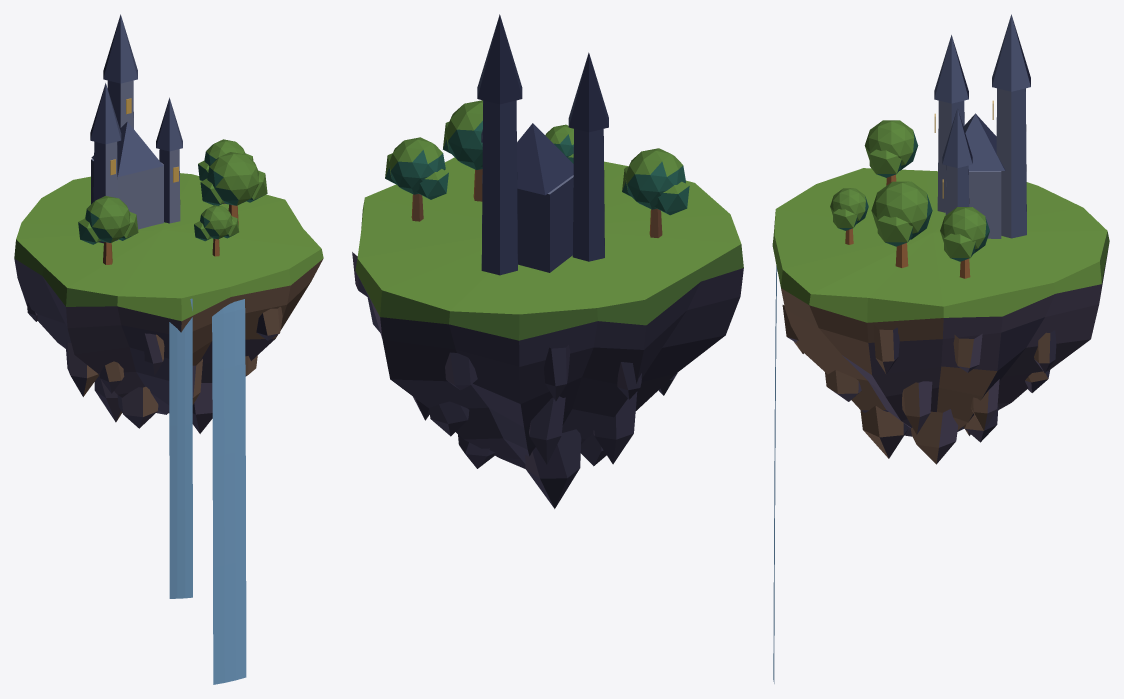
File: far_island_d.glb
3 renders of one model, left to right at view 1: azimuth 30°, elevation 25°; view 2: azimuth 150°, elevation 25°; view 3: azimuth 270°, elevation 25°, orthographic. The views are drawn at different scales.
Parts seen in each view (by area): view 1: Island, Waterfall1, Waterfall2; view 2: Island; view 3: Island, Waterfall1.
Part boxes in pixels (<box>): Island: <box>14,14,323,433</box>; Waterfall1: <box>212,299,246,684</box>; Waterfall2: <box>169,298,192,598</box>; Island: <box>352,14,743,508</box>; Island: <box>772,14,1109,464</box>; Waterfall1: <box>773,266,777,683</box>.
Bounding box in the file's own units: 63.17 × 139 × 64.22.
